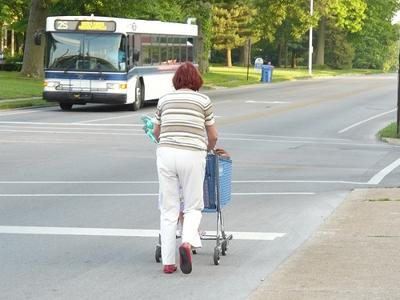person: (153, 62, 219, 275)
